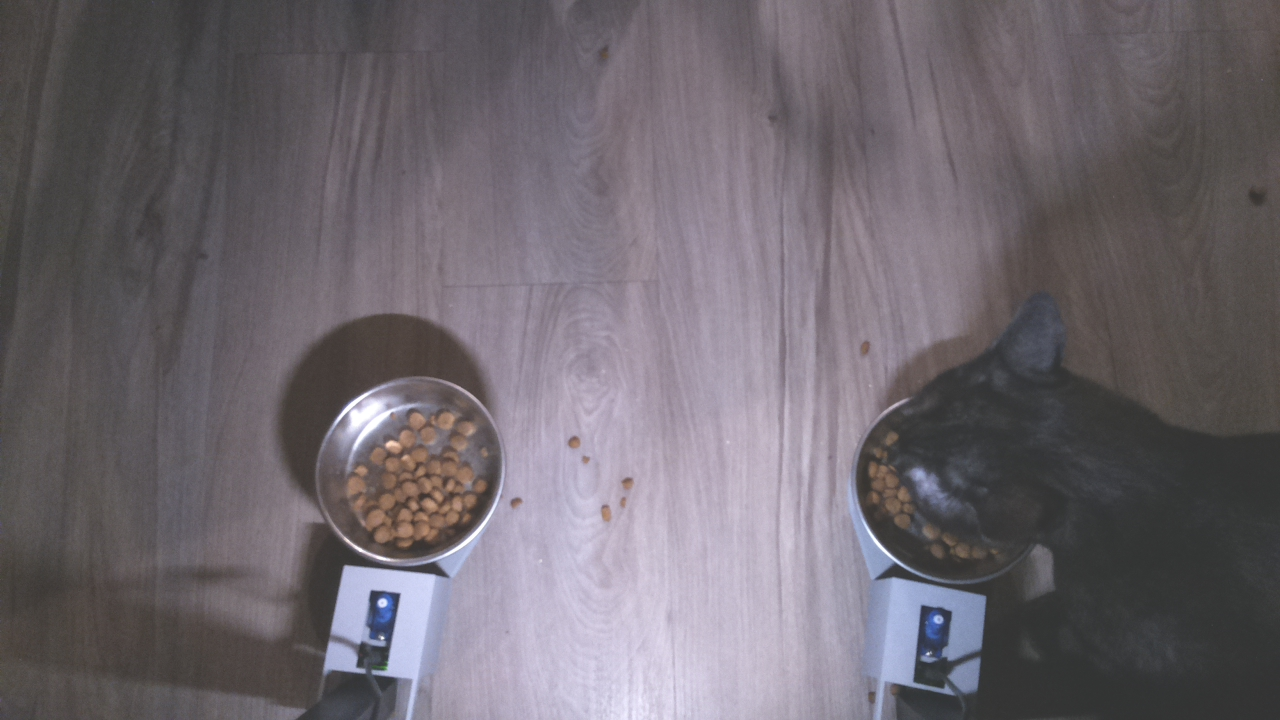open_bowl: (311, 373, 507, 569)
saki_eating: (848, 287, 1126, 596)
